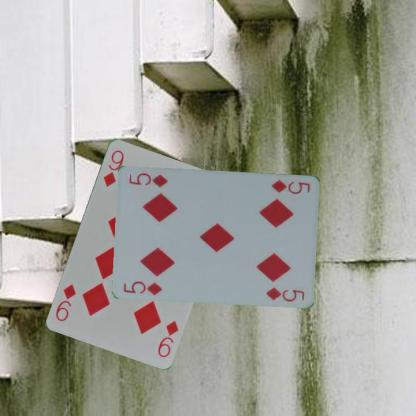5d: (121, 278, 164, 296), (270, 177, 312, 195)
9d: (155, 317, 180, 359), (100, 147, 125, 188)
